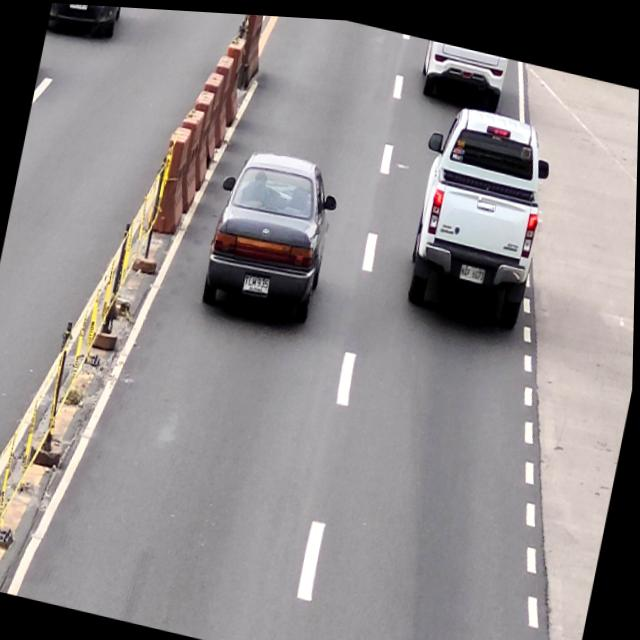Car: (397, 93, 560, 329), (199, 139, 344, 327), (417, 34, 508, 106)
License-Plate: (458, 256, 487, 277), (242, 270, 271, 290)
